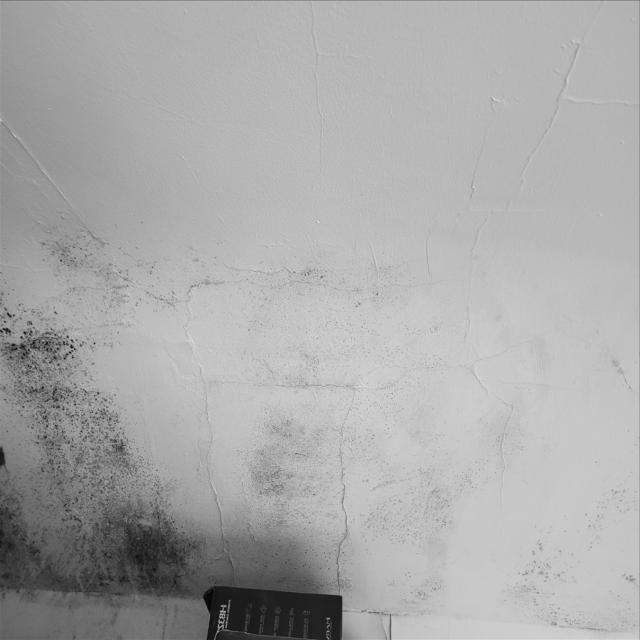stain marks: (202, 232, 511, 636), (0, 226, 195, 640), (515, 405, 640, 640), (602, 321, 640, 386)
trowels marks: (506, 0, 640, 213), (285, 5, 354, 181), (321, 378, 373, 600), (3, 107, 85, 215), (369, 346, 515, 400), (444, 214, 501, 341), (199, 426, 239, 584), (455, 88, 505, 212), (202, 372, 325, 418), (181, 260, 319, 296)
